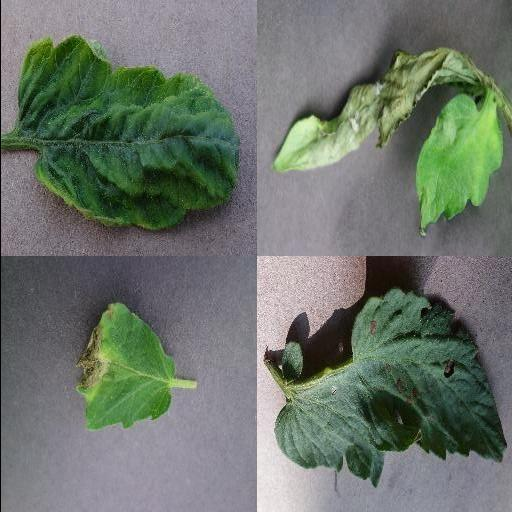Early Blight: (272, 278, 508, 482)
Late Blight: (272, 46, 486, 174), (413, 93, 503, 241), (71, 304, 175, 432)
Yellow Leaf Curl Virus: (16, 35, 240, 231)
